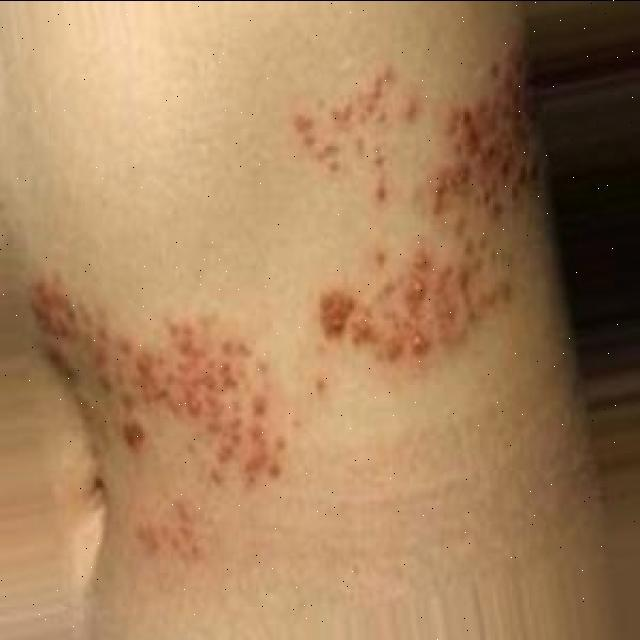Shingles: (6, 269, 298, 551), (292, 49, 538, 369)
